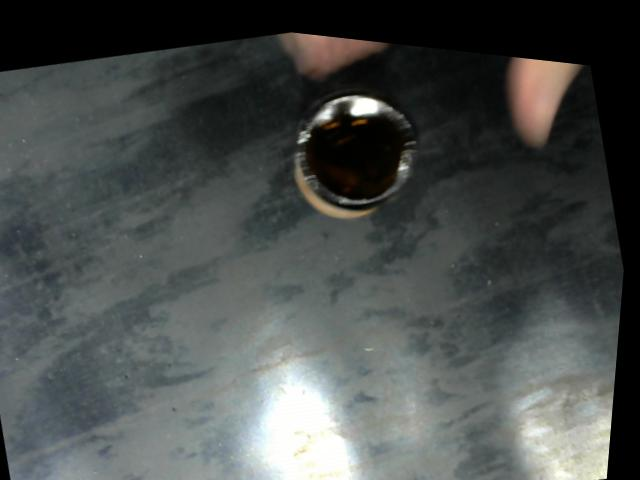glass: (275, 60, 443, 232)
